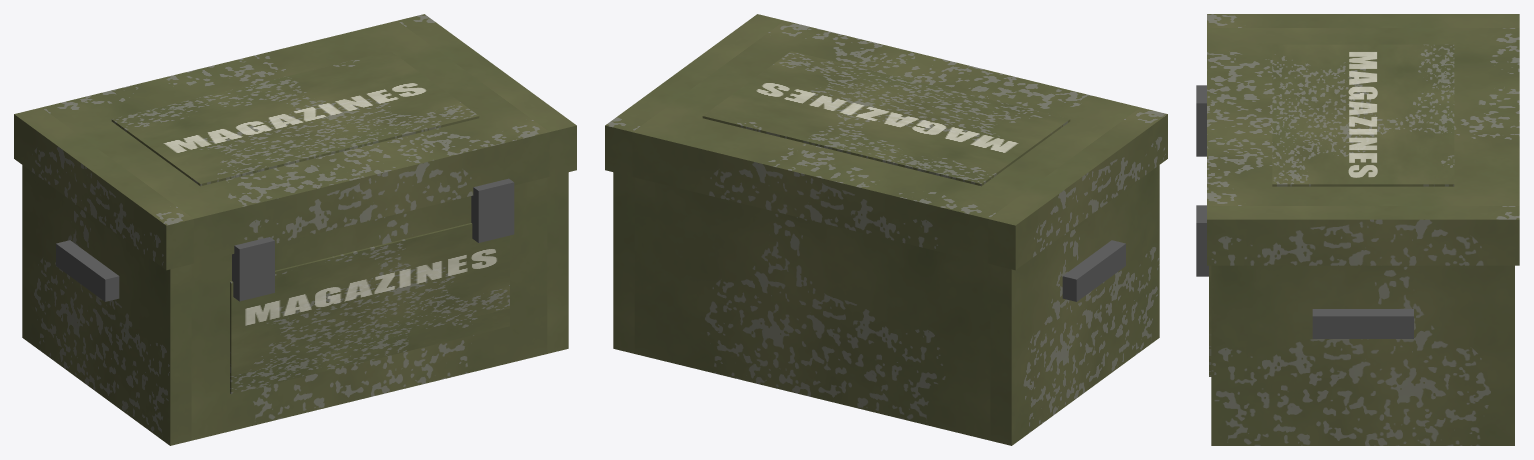
File: box_magazines.glb
The picture shows the model from 3 angles, left to right: view 1: azimuth 30°, elevation 25°; view 2: azimuth 150°, elevation 25°; view 3: azimuth 270°, elevation 25°; orthographic projection. The views are drawn at different scales.
Visible parts, largest first — view 1: Box_MAGAZINES; view 2: Box_MAGAZINES; view 3: Box_MAGAZINES.
Boxes of the visible parts, x1=… form: Box_MAGAZINES: x1=14, y1=14, x2=576, y2=445; Box_MAGAZINES: x1=605, y1=14, x2=1167, y2=445; Box_MAGAZINES: x1=1196, y1=14, x2=1519, y2=445.
Bounding box in the file's own units: 0.604 × 0.303 × 0.3834.
Materials: 3 (2 with a texture image).
